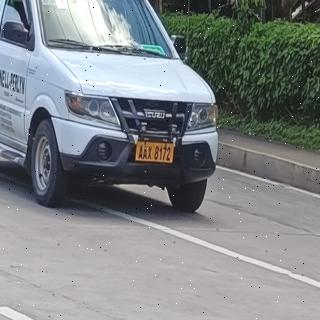license: (137, 142, 175, 164)
